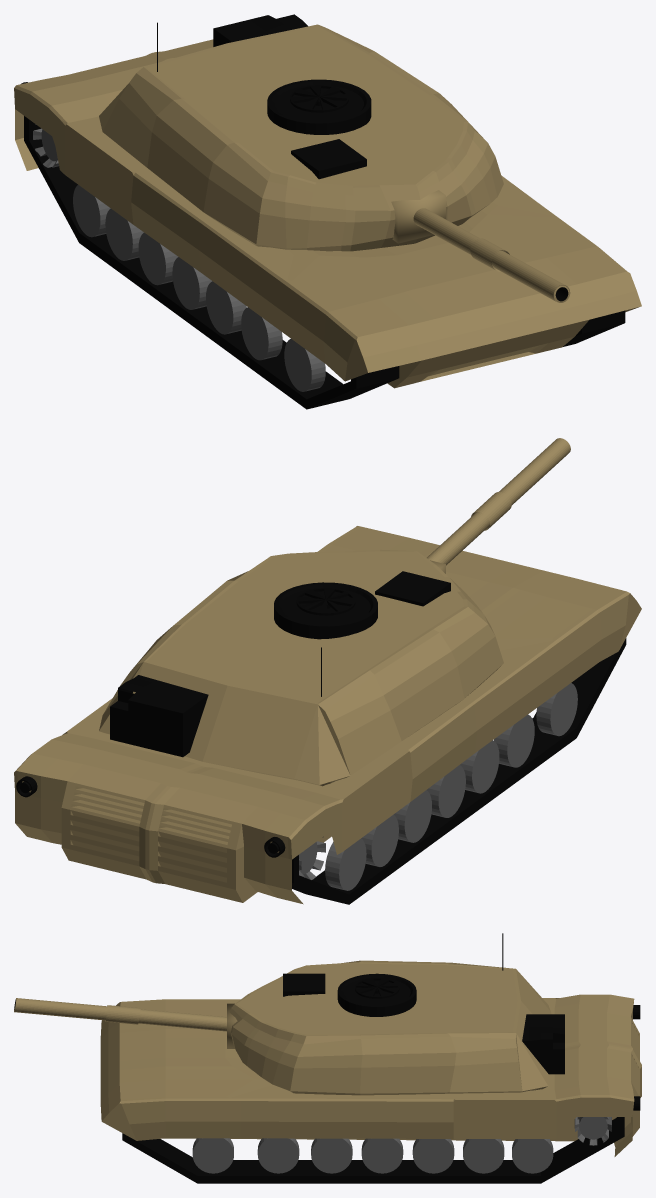
Rendered from tank.fbx.
3 renders of one model, top to bottom at view 1: azimuth 30°, elevation 25°; view 2: azimuth 150°, elevation 25°; view 3: azimuth 270°, elevation 25°, orthographic. The views are drawn at different scales.
Parts seen in each view (by area): view 1: LowerPart, UpperPart; view 2: LowerPart, UpperPart; view 3: LowerPart, UpperPart.
Boxes of the visible parts, x1=… form: LowerPart: x1=14, y1=39, x2=641, y2=409; UpperPart: x1=99, y1=14, x2=570, y2=303; LowerPart: x1=14, y1=526, x2=641, y2=904; UpperPart: x1=99, y1=438, x2=570, y2=786; LowerPart: x1=100, y1=994, x2=641, y2=1183; UpperPart: x1=14, y1=933, x2=564, y2=1095.
Bounding box in the file's own units: 986 × 755 × 2521.
